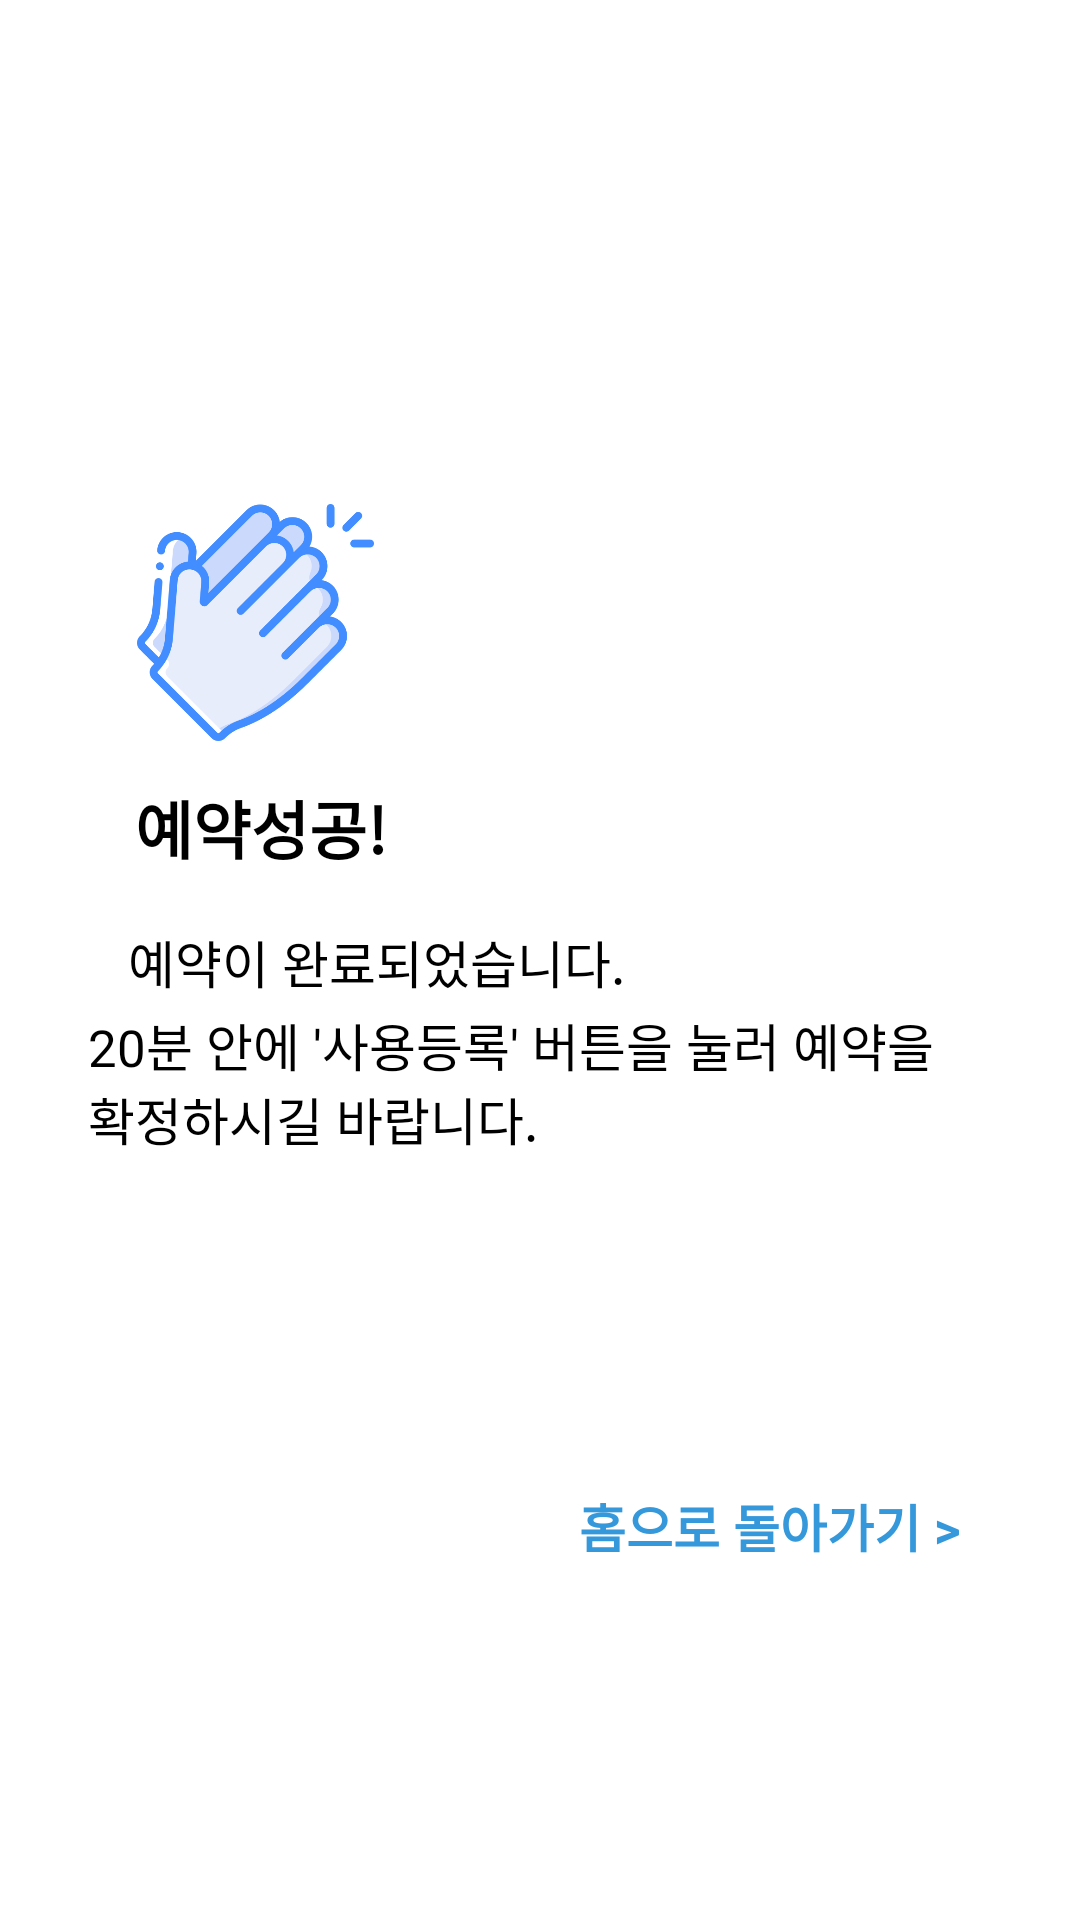

Icons on this 1080 × 1920 Android screen, each with its box as (x1, y1, x2, y2):
clapping: (137, 504, 374, 741)
